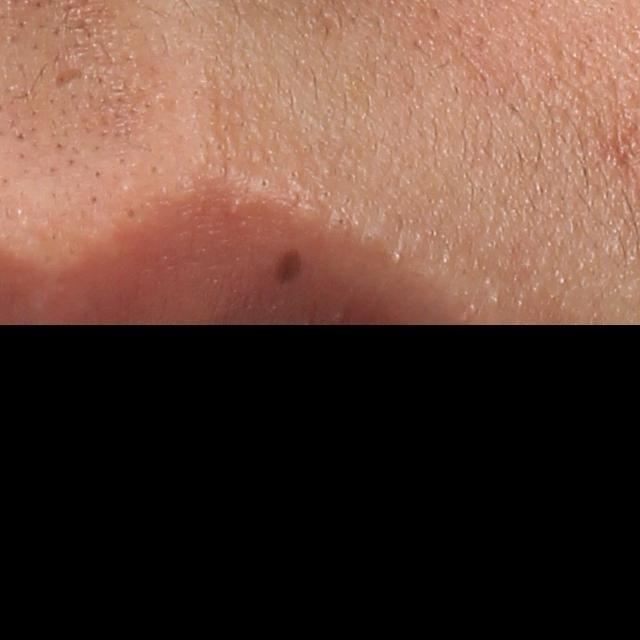atrophic_scar: (53, 68, 86, 90)
nevus: (276, 247, 302, 288)
